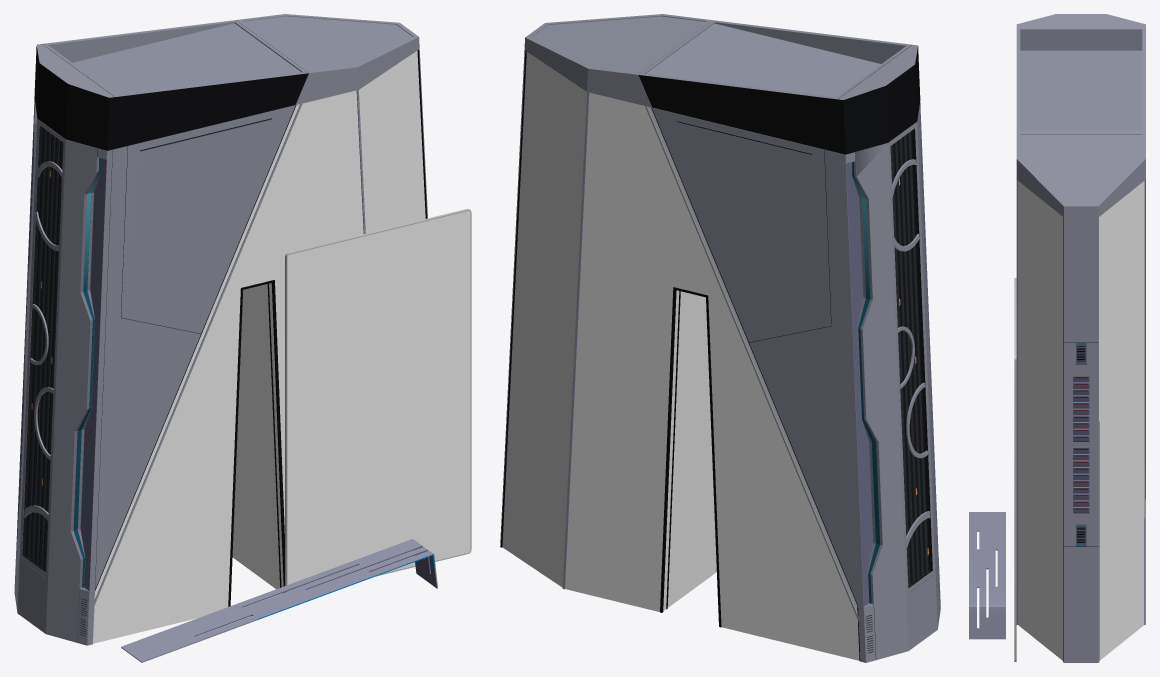
File: Building_006_2st_L0.fbx
3 renders of one model, left to right at view 1: azimuth 30°, elevation 25°; view 2: azimuth 150°, elevation 25°; view 3: azimuth 270°, elevation 25°, orthographic. The views are drawn at different scales.
Parts seen in each view (by area): view 1: Building_006_2st_L0; view 2: Building_006_2st_L0; view 3: Building_006_2st_L0.
Part boxes in pixels (left/top/right/bottom): Building_006_2st_L0: left=14, top=14, right=471, bottom=662; Building_006_2st_L0: left=500, top=14, right=940, bottom=662; Building_006_2st_L0: left=969, top=14, right=1145, bottom=662.
Size of the model in its own units: 58.72 by 76.63 by 25.15.
